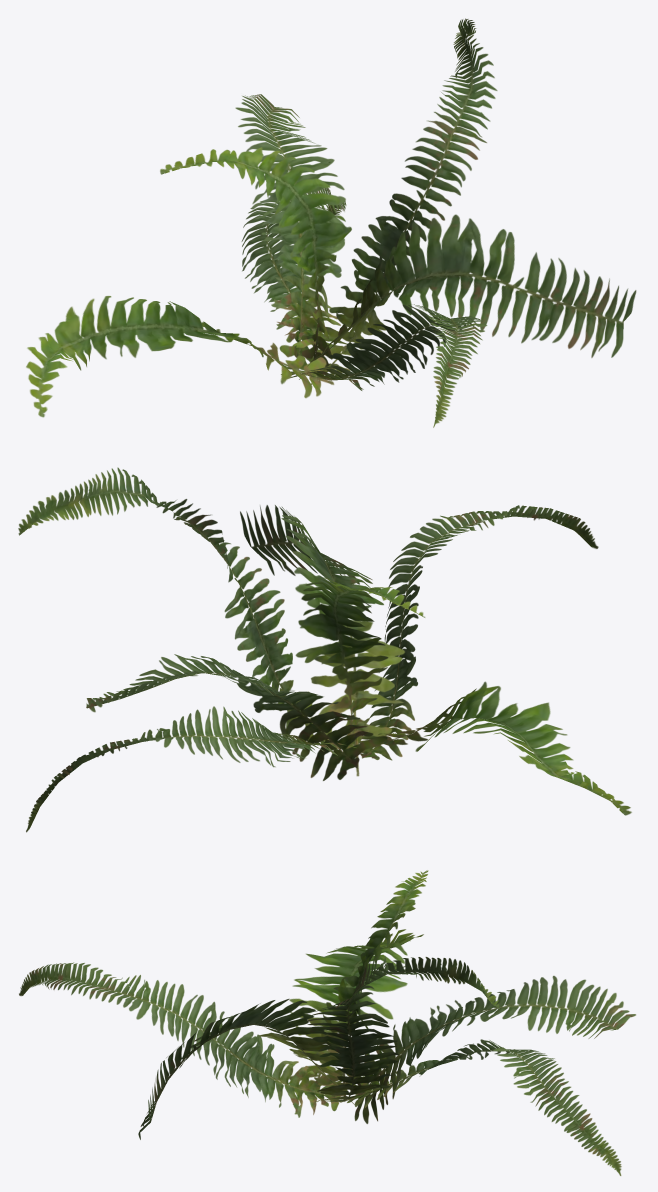
Rendered from fern_c.glb.
3 renders of one model, top to bottom at view 1: azimuth 30°, elevation 25°; view 2: azimuth 150°, elevation 25°; view 3: azimuth 270°, elevation 25°, orthographic. The views are drawn at different scales.
Visible parts, largest first — view 1: fern_02_a_w; view 2: fern_02_a_w; view 3: fern_02_a_w.
Boxes of the visible parts, box(x1,y1,x2,y2) form: fern_02_a_w: box(26, 18, 636, 427); fern_02_a_w: box(18, 467, 631, 832); fern_02_a_w: box(19, 870, 635, 1175).
Size of the model in its own units: 0.866 by 0.45 by 0.9625.
Materials: 1 (1 with a texture image).
